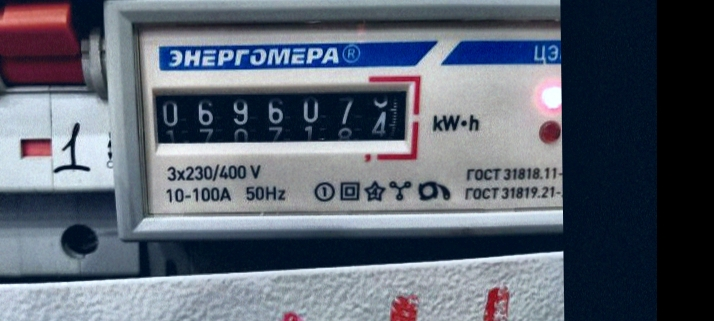0: (158, 98, 179, 128), (300, 95, 319, 125)
4: (367, 110, 386, 139)
6: (264, 96, 284, 127), (194, 98, 213, 127)
7: (335, 94, 353, 125)
9: (229, 97, 249, 127)
screen: (139, 69, 424, 165)
